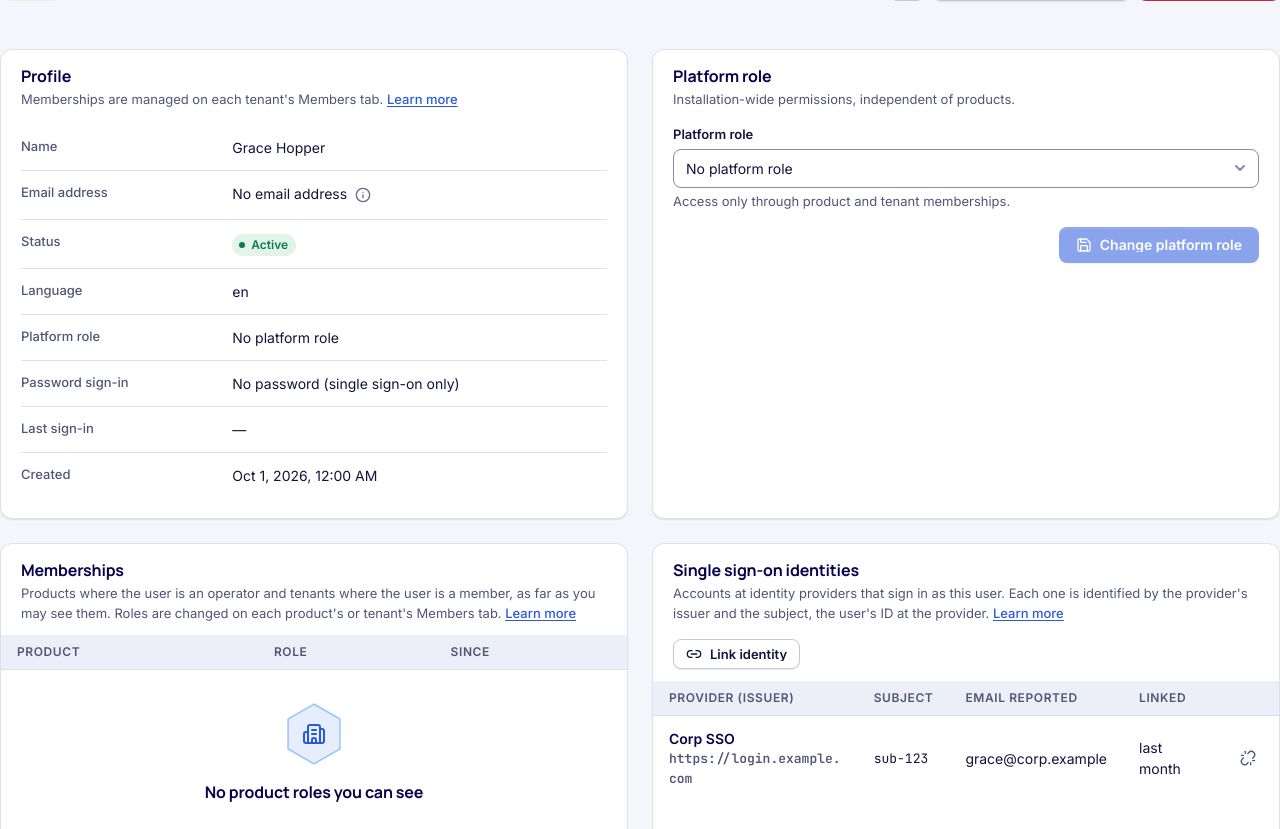
Test: IdentitiesCard › unlinks after a confirmation and reports the ended sessions
Click the button named "Unlink the identity at Corp SSO" at (1248, 758), box [1233, 743, 1263, 773]
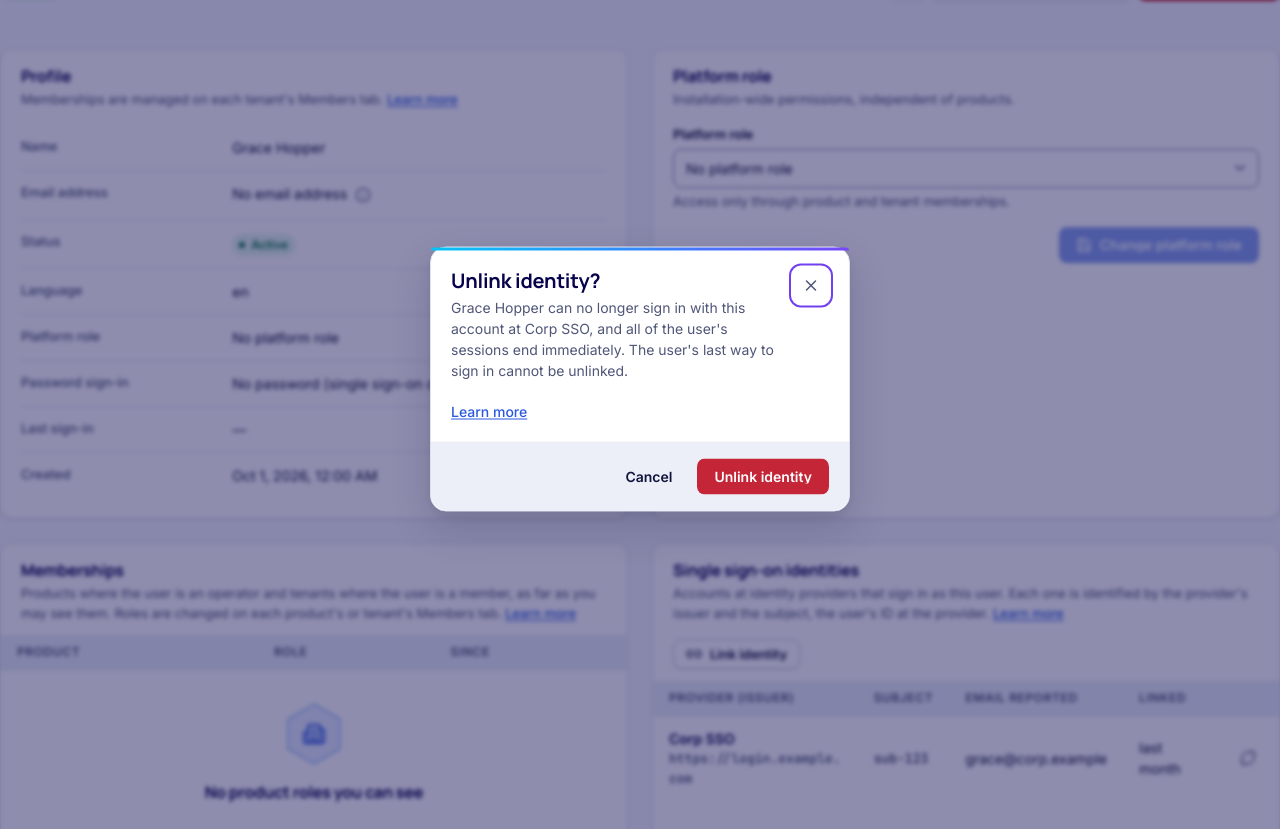
Now the text "all of the user's sessions end immediately" is shown, box [451, 298, 774, 378]
Click the button "Unlink identity" at (763, 476), box [697, 458, 829, 494]
(page scrolled)
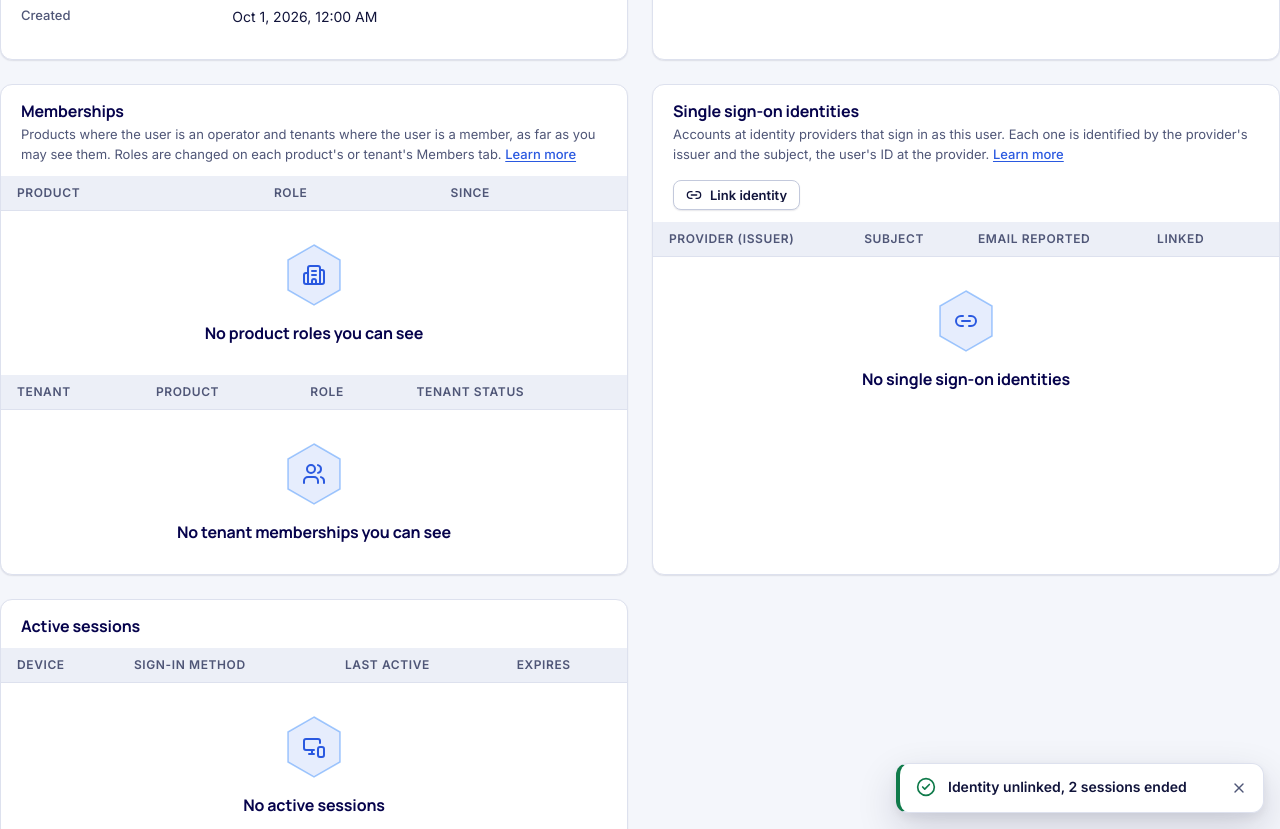
Now the text "Identity unlinked, 2 sessions ended" is shown, box [948, 776, 1215, 797]
Now the heading "No single sign-on identities" is shown, box [862, 369, 1070, 389]
